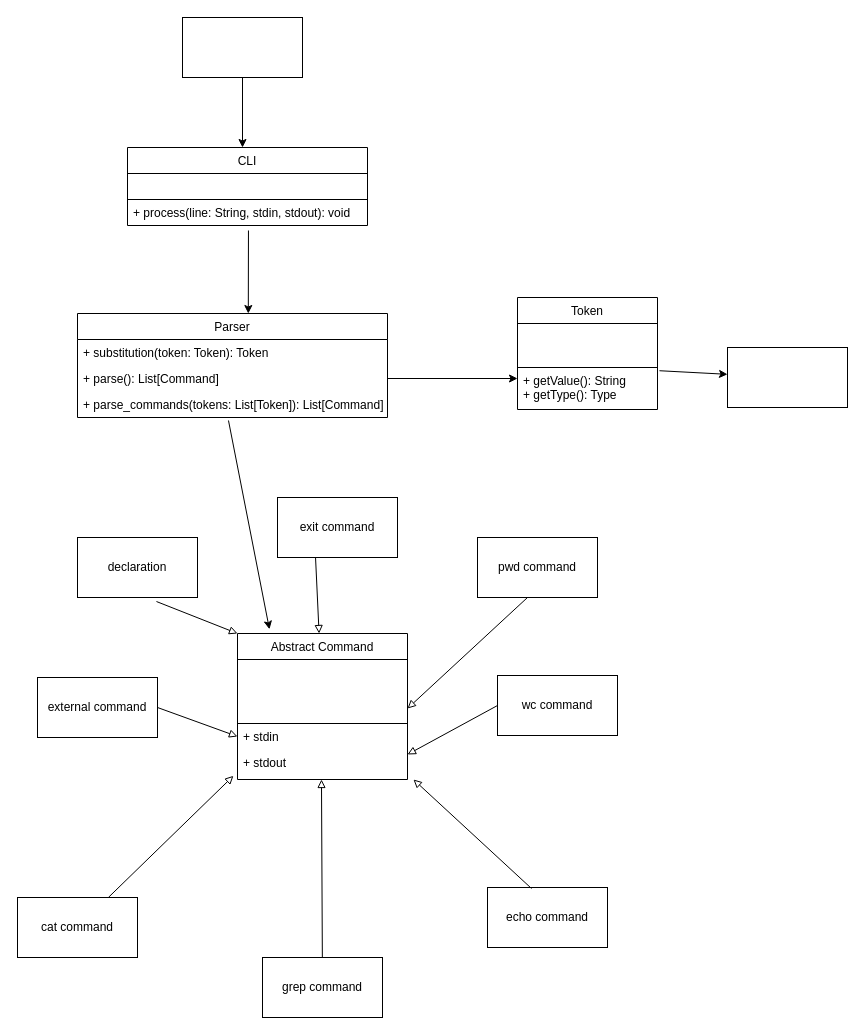
Some shapes in this 865 by 1035 pixel diagram are drawn without their labels. Each missing label, with the centre of its shape:
"+ init(args: List[String]): void + execute(stdin, stdout): Bool" belongs at pixel 322 691.
"+ is_running: Bool" belongs at pixel 247 186.
"+ value: String + type: Type" belongs at pixel 587 345.
"Main(): void" belongs at pixel 242 47.
"Type" belongs at pixel 787 377.
